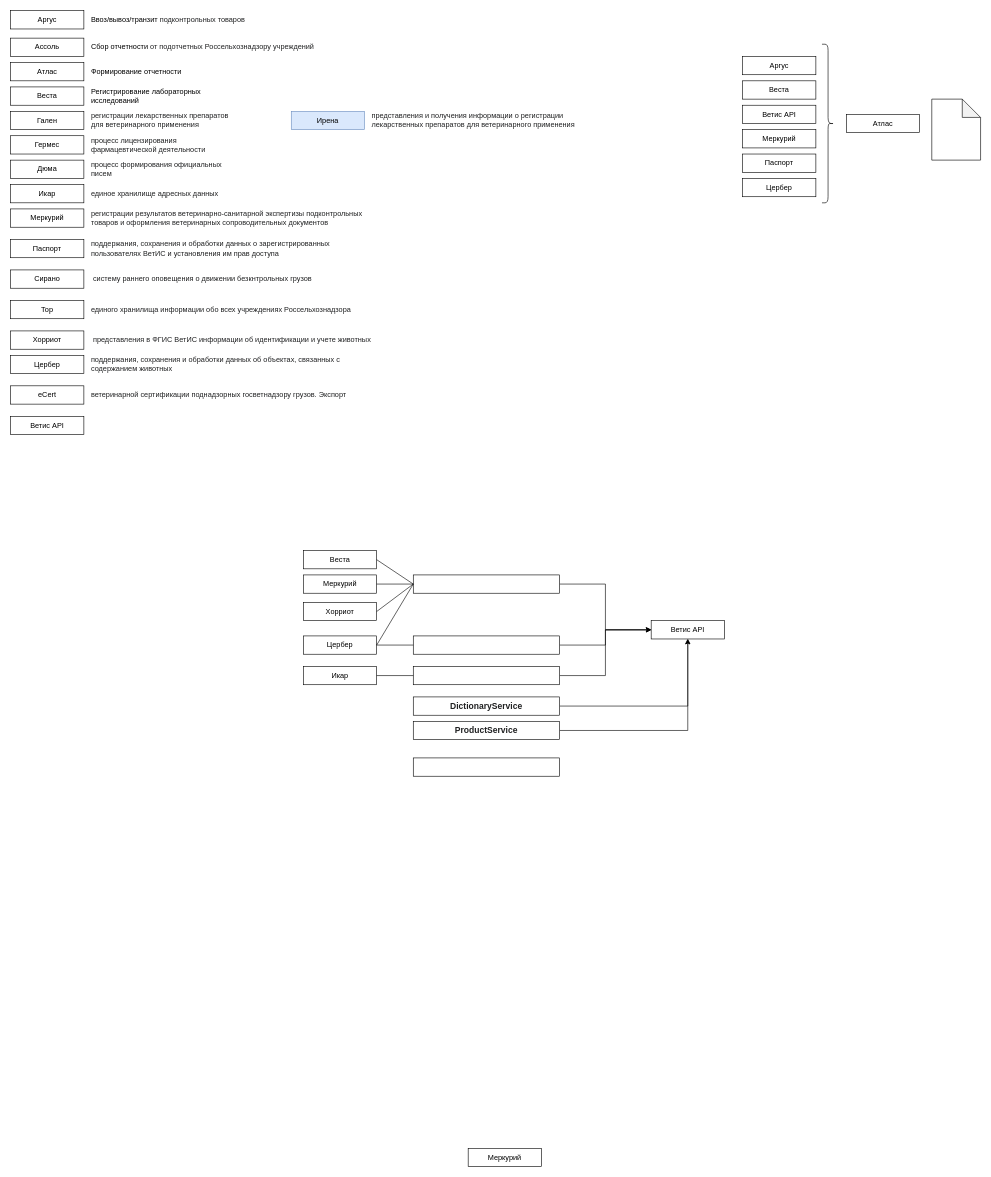
This 991x1177 diagram has some shape labels left out. The shapes that lost their labels are listed below. From the top down, each one's box as (x1, y1, x2, y2) in pixels, then its label:
(413, 574, 560, 593): ApplicationManagementService
(413, 635, 560, 654): EnterpriseService
(413, 666, 560, 685): IkarService
(413, 757, 560, 776): R13
